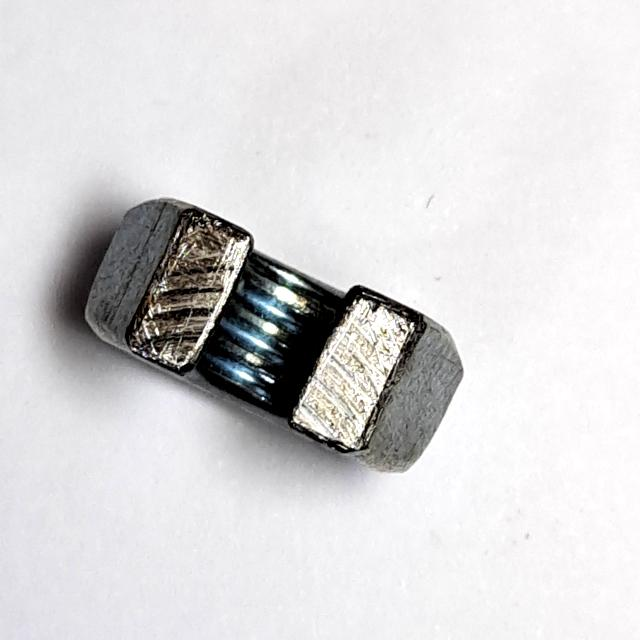Side-Fracture: (77, 177, 476, 491)
